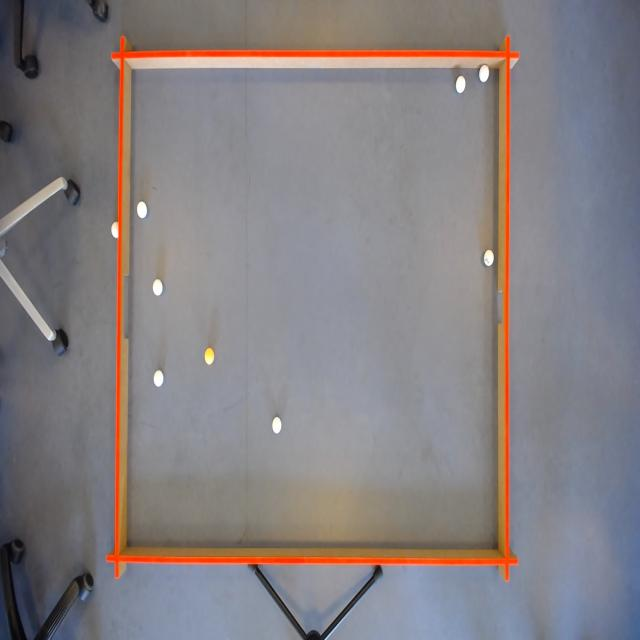orange_ball: (203, 345, 215, 367)
white_ball: (150, 276, 164, 300), (482, 245, 496, 269), (478, 62, 491, 85), (270, 413, 282, 436), (136, 198, 148, 220), (110, 220, 122, 242), (454, 74, 466, 95), (153, 367, 164, 389)
